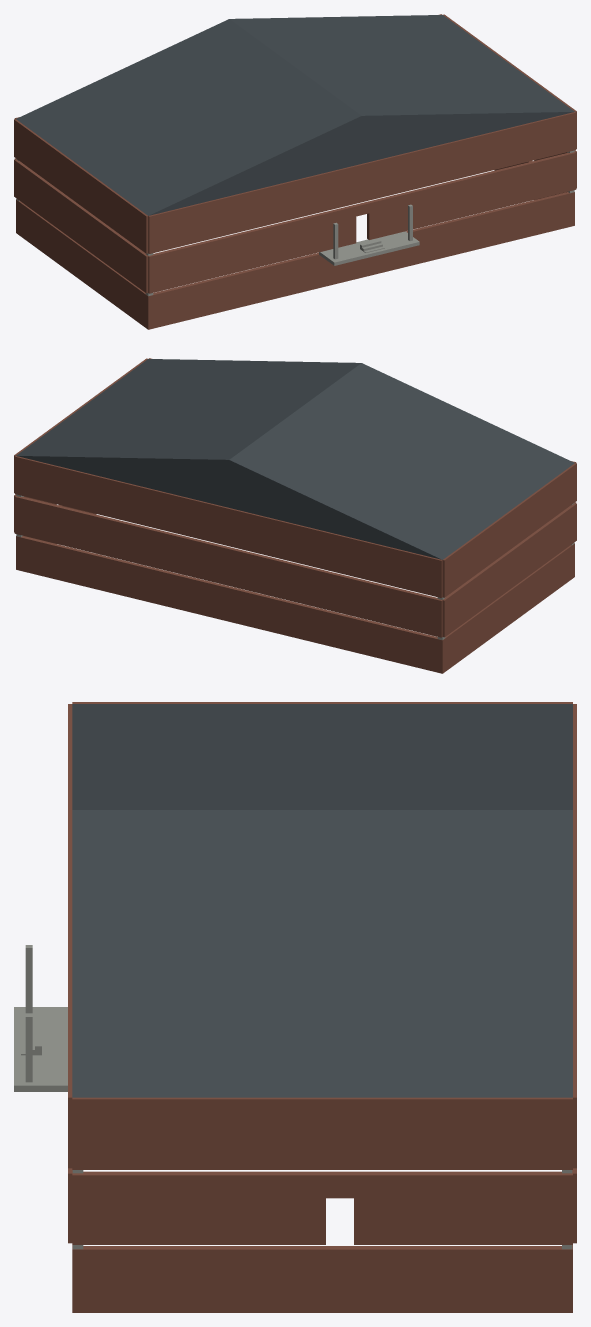
Rendered from HAR-001_HARROW_MANOR_SHELL_PLAYABLE_BLOCKOUT.fbx.
The picture shows the model from 3 angles, top to bottom: view 1: azimuth 30°, elevation 25°; view 2: azimuth 150°, elevation 25°; view 3: azimuth 270°, elevation 25°; orthographic projection. The views are drawn at different scales.
Visible parts, largest first — view 1: HAR001_MainRoof, HAR001_ManorExteriorShell, HAR001_PorchAndEntry; view 2: HAR001_MainRoof, HAR001_ManorExteriorShell; view 3: HAR001_MainRoof, HAR001_ManorExteriorShell, HAR001_PorchAndEntry.
Boxes of the visible parts, x1,y1,x2,y2 form: HAR001_MainRoof: (16, 15, 574, 215); HAR001_ManorExteriorShell: (14, 14, 576, 329); HAR001_PorchAndEntry: (319, 204, 419, 265); HAR001_MainRoof: (16, 359, 574, 559); HAR001_ManorExteriorShell: (14, 358, 576, 673); HAR001_MainRoof: (72, 704, 572, 1097); HAR001_ManorExteriorShell: (68, 702, 576, 1312); HAR001_PorchAndEntry: (14, 945, 67, 1091).
Size of the model in its own units: 40.35 by 14.5 by 24.18.
